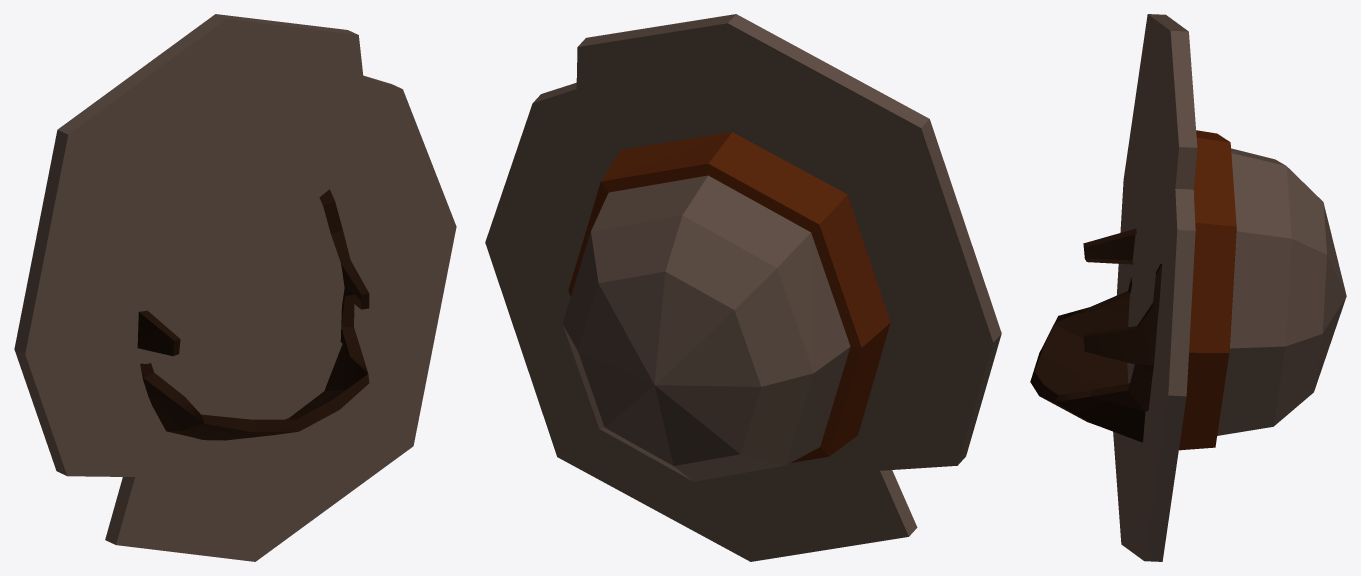
Rendered from Hat 05.FBX.
3 renders of one model, left to right at view 1: azimuth 30°, elevation 25°; view 2: azimuth 150°, elevation 25°; view 3: azimuth 270°, elevation 25°, orthographic. The views are drawn at different scales.
Visible parts, largest first — view 1: Hat 05, Hair Headgear; view 2: Hat 05; view 3: Hat 05, Hair Headgear.
Boxes of the visible parts, x1,y1,x2,y2 form: Hat 05: (14,14,456,561); Hair Headgear: (137,189,369,440); Hat 05: (485,14,1001,561); Hat 05: (1113,14,1346,561); Hair Headgear: (1030,228,1162,442).
Bounding box in the file's own units: 63.72 × 39.34 × 70.39.
